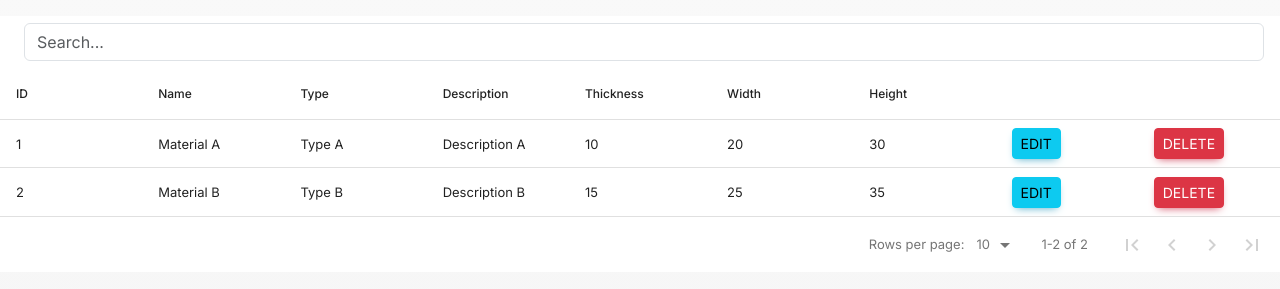
Test: Table Component › should filter data based on search input
Expected: the text "Material A" is shown, [158,136,220,152]
// Filtrar por "Material B"
Type "Material B" into the field with placeholder "Search..." at [644, 42], box [24,23,1264,61]
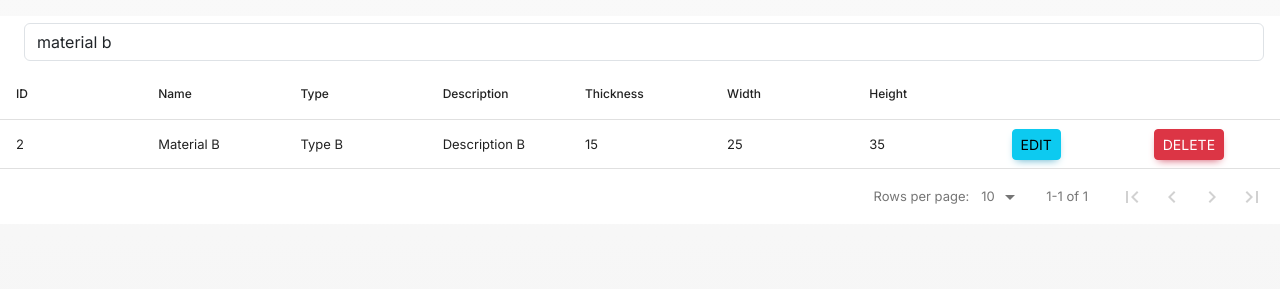
Expected: the text "Material B" is shown, [158,136,220,152]
Now the text "Material A" is gone
